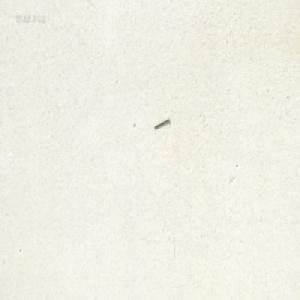Bolt: (153, 117, 169, 129)
